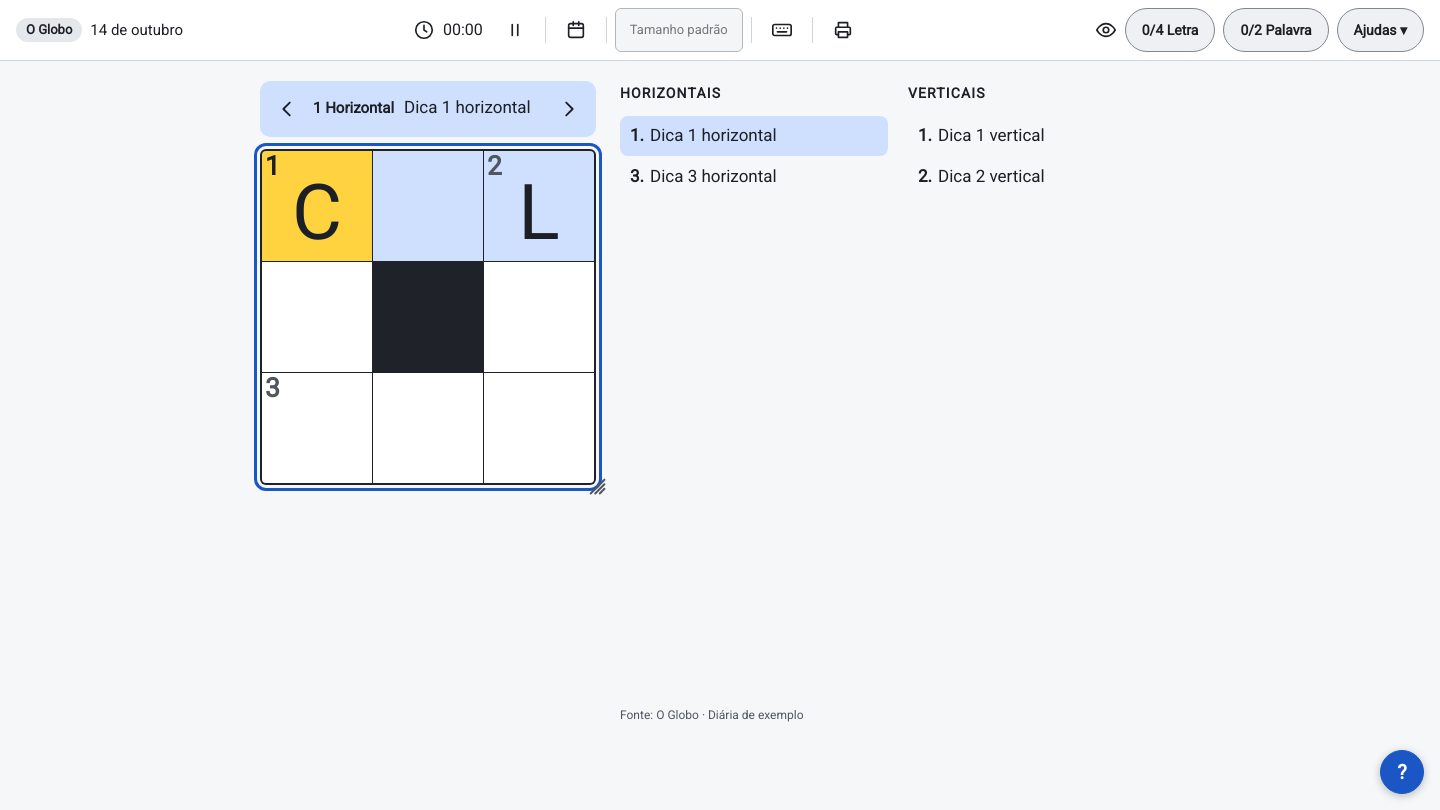
Test: copiar a dica com duplo clique (feature 033) › com a opção ligada copia "dica (n): letras" e avisa
Check: the table is shown, box [260,149,596,485]
Double-click the button "1Dica 1 horizontal".
double_click(754, 136)  # box [620,116,888,156]
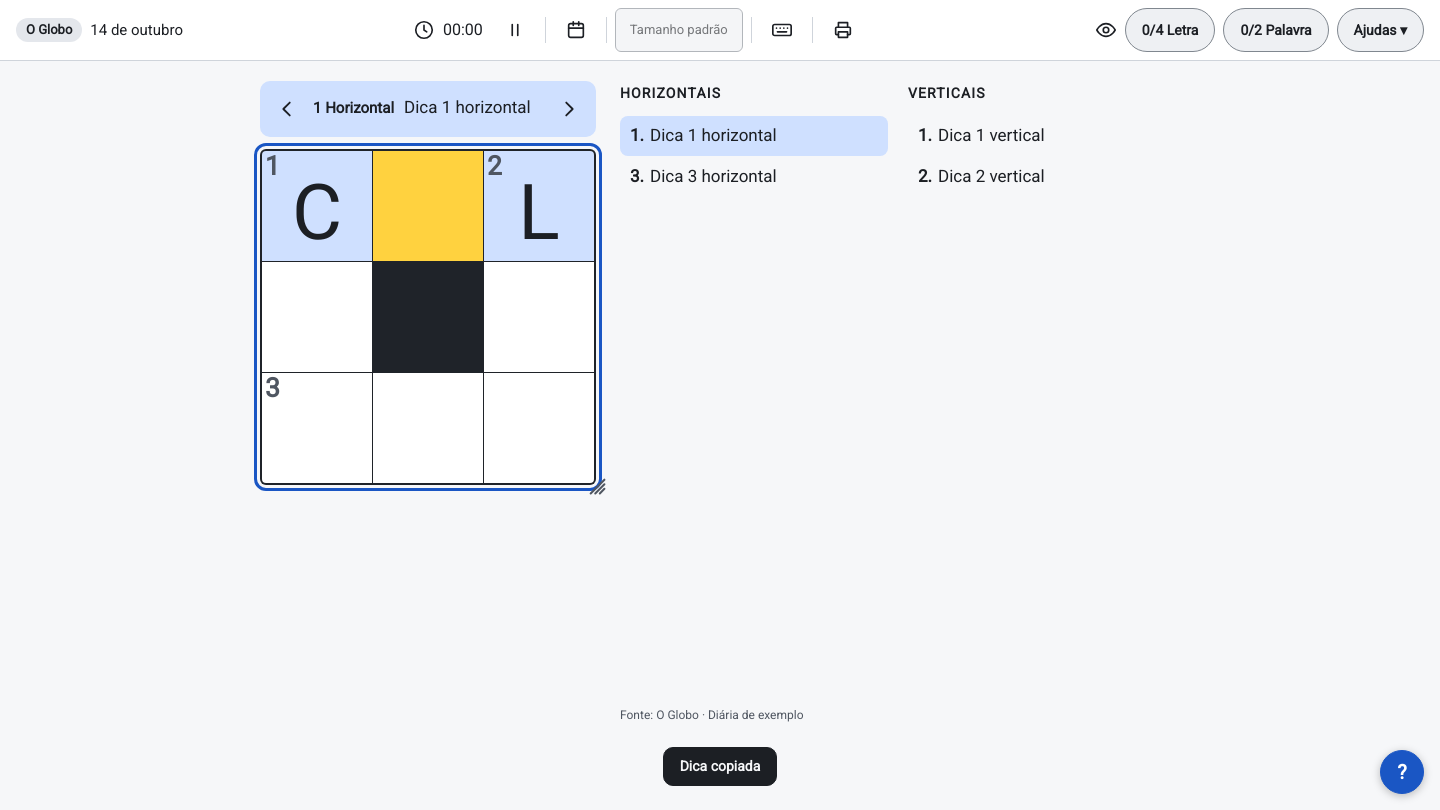
Check: the text "Dica copiada" is shown, box [663,747,777,786]
